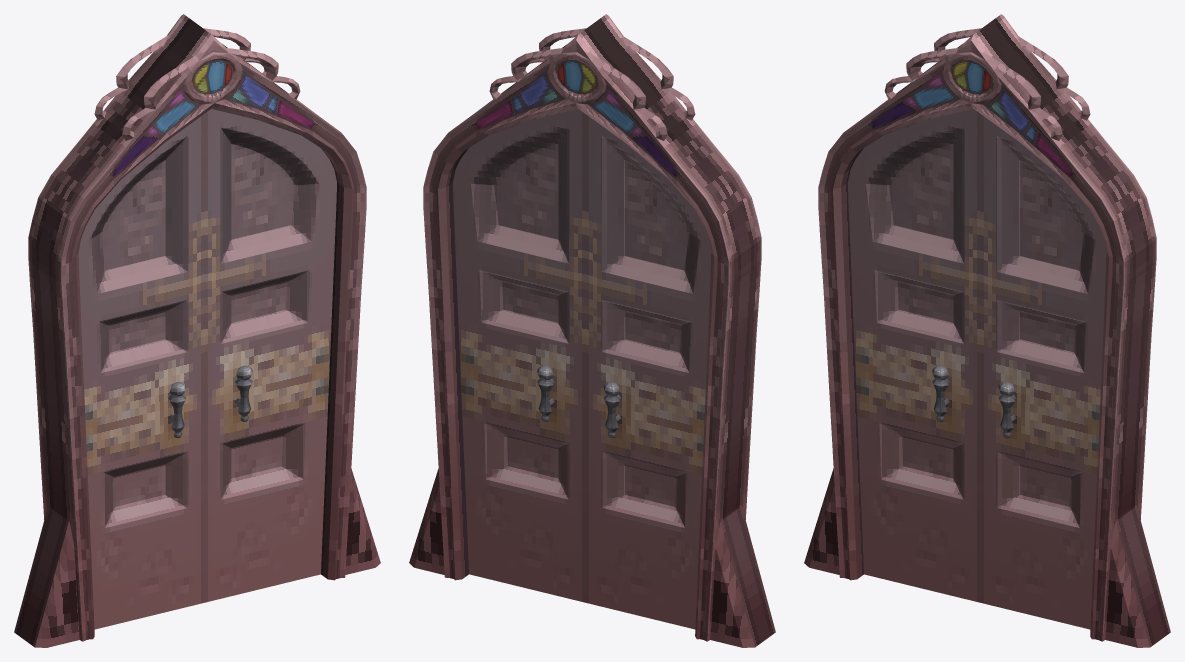
File: soa_door.obj
3 views of the same model, side by side, from view 1: azimuth 30°, elevation 25°; view 2: azimuth 150°, elevation 25°; view 3: azimuth 330°, elevation 25° (orthographic).
Parts seen in each view (by area): view 1: mesh; view 2: mesh; view 3: mesh.
Part boxes in pixels (x1,y1,x2,y2): mesh: [14, 14, 380, 647]; mesh: [409, 14, 775, 647]; mesh: [804, 14, 1170, 647].
Bounding box in the file's own units: 2.1 × 3.32 × 0.359.
